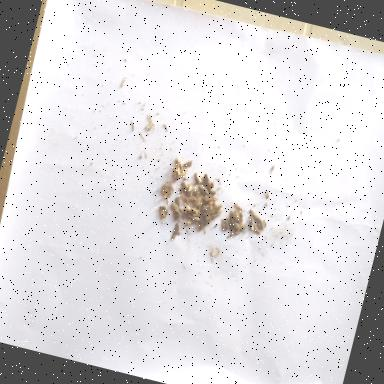pbw: (168, 202, 184, 219), (196, 182, 210, 198), (182, 202, 194, 216), (231, 209, 242, 223), (188, 214, 202, 225), (201, 172, 212, 186), (256, 219, 268, 231), (249, 225, 262, 236), (178, 165, 188, 178), (247, 210, 259, 220), (192, 172, 202, 184), (180, 183, 190, 194), (191, 206, 202, 215), (204, 205, 212, 217), (174, 197, 182, 207), (184, 160, 192, 170), (187, 184, 194, 195)
